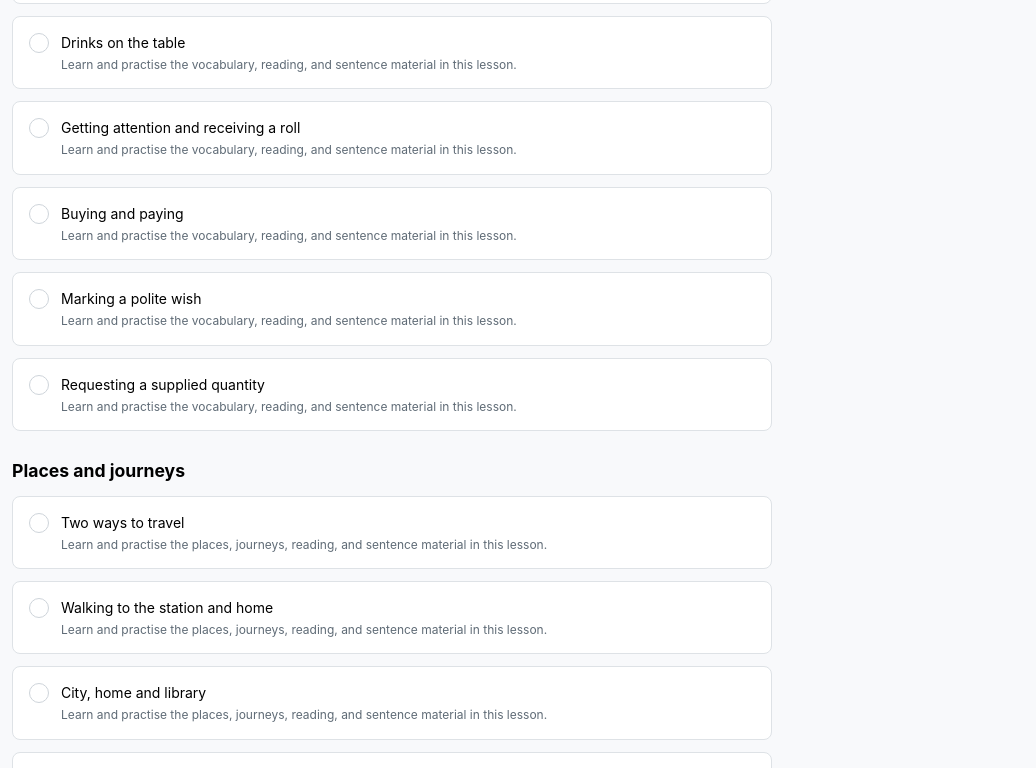
Test: shows all six P2 catalog profiles and starts the explicitly selected lesson identity
(page scrolled)
Expected: the radio button labelled "Drinks on the table" is not checked, [29,33,49,53]
Expected: the radio button labelled "Getting attention and receiving a roll" is not checked, [29,118,49,138]
Click the radio button labelled "Requesting a supplied quantity": [39, 384] box [29,374,49,394]
(page scrolled)
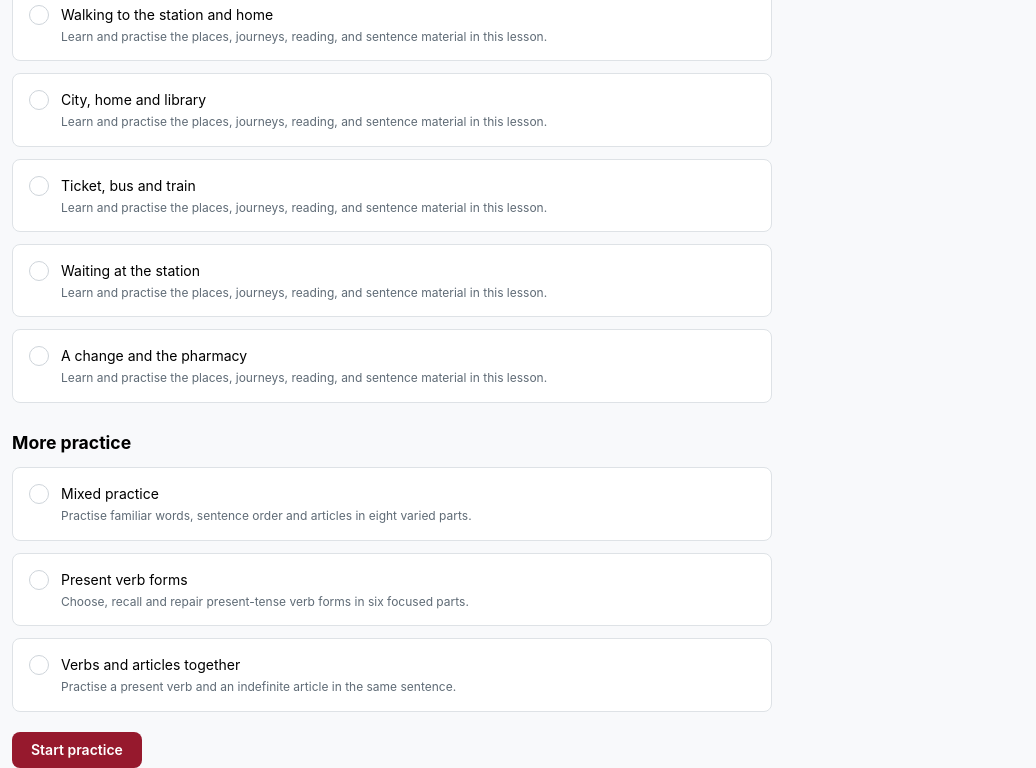
Click the button "Start practice": [77, 750] box [12,732,142,767]
(page scrolled)
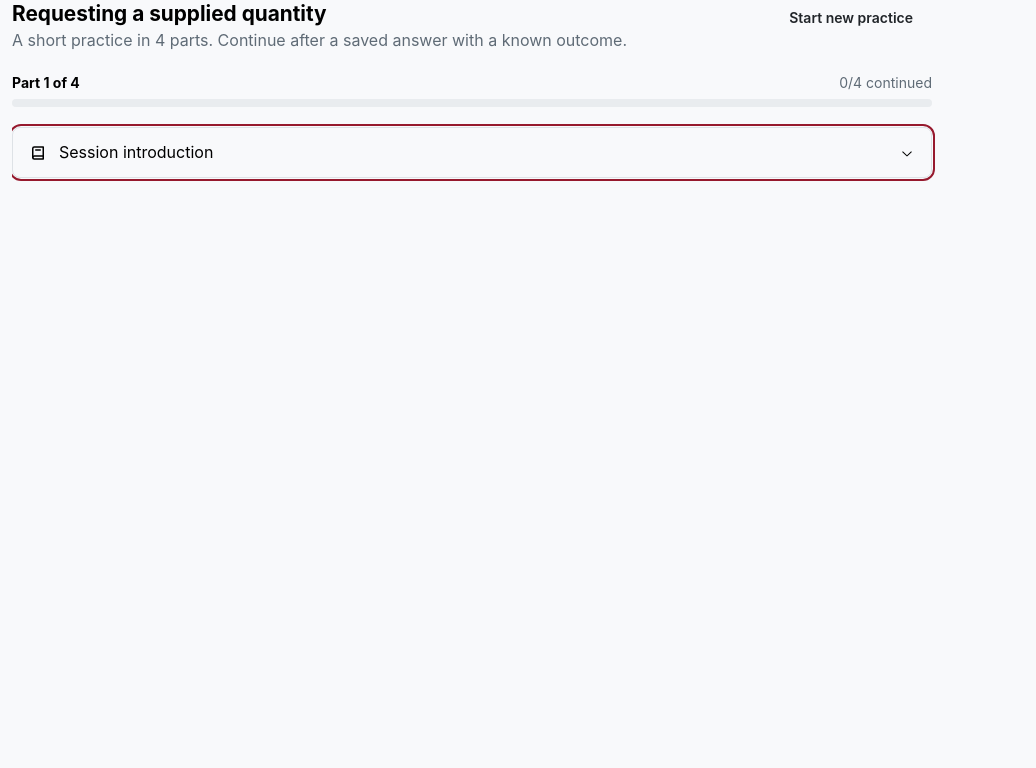
Now the heading "Requesting a supplied quantity" is shown, box [12,1,327,26]
